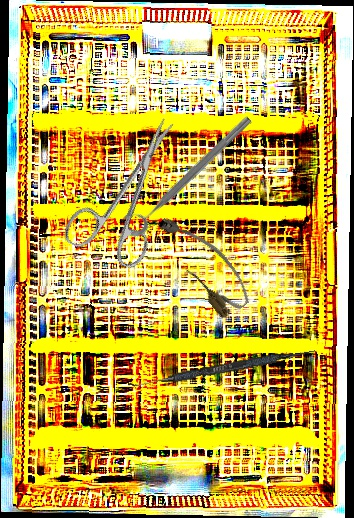Cannula: (151, 203, 257, 322)
Fixation Ring: (117, 105, 256, 242)
Iris Scissors: (59, 101, 208, 279)
Spatula Surgical: (127, 343, 317, 394)
